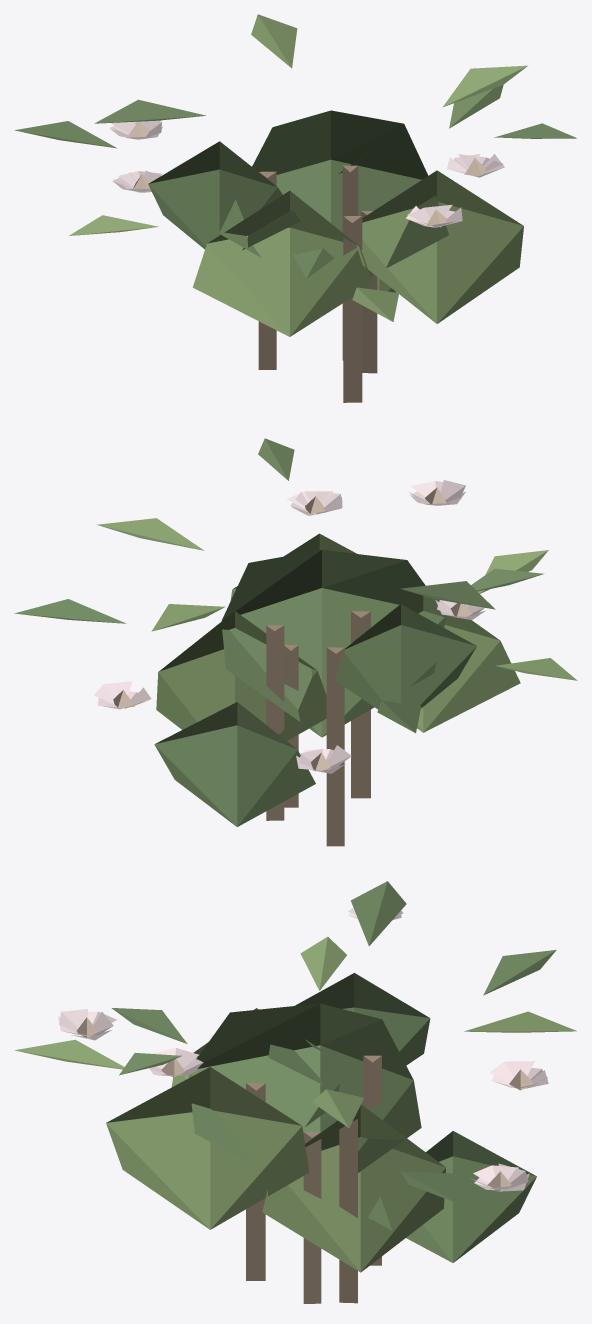
Rendered from guan.huanglu__summer.glb.
3 renders of one model, top to bottom at view 1: azimuth 30°, elevation 25°; view 2: azimuth 150°, elevation 25°; view 3: azimuth 270°, elevation 25°, orthographic. The views are drawn at different scales.
Parts seen in each view (by area): view 1: guan.huanglu__summer; view 2: guan.huanglu__summer; view 3: guan.huanglu__summer.
Boxes of the visible parts, bbox=[...] form: guan.huanglu__summer: bbox=[15, 14, 576, 402]; guan.huanglu__summer: bbox=[14, 438, 577, 846]; guan.huanglu__summer: bbox=[15, 881, 576, 1303].
Size of the model in its own units: 4.46 by 2.46 by 4.11.
